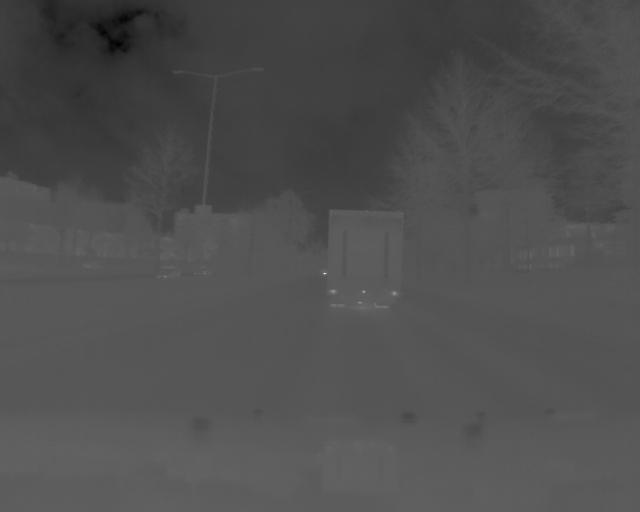car: (323, 206, 403, 311)
